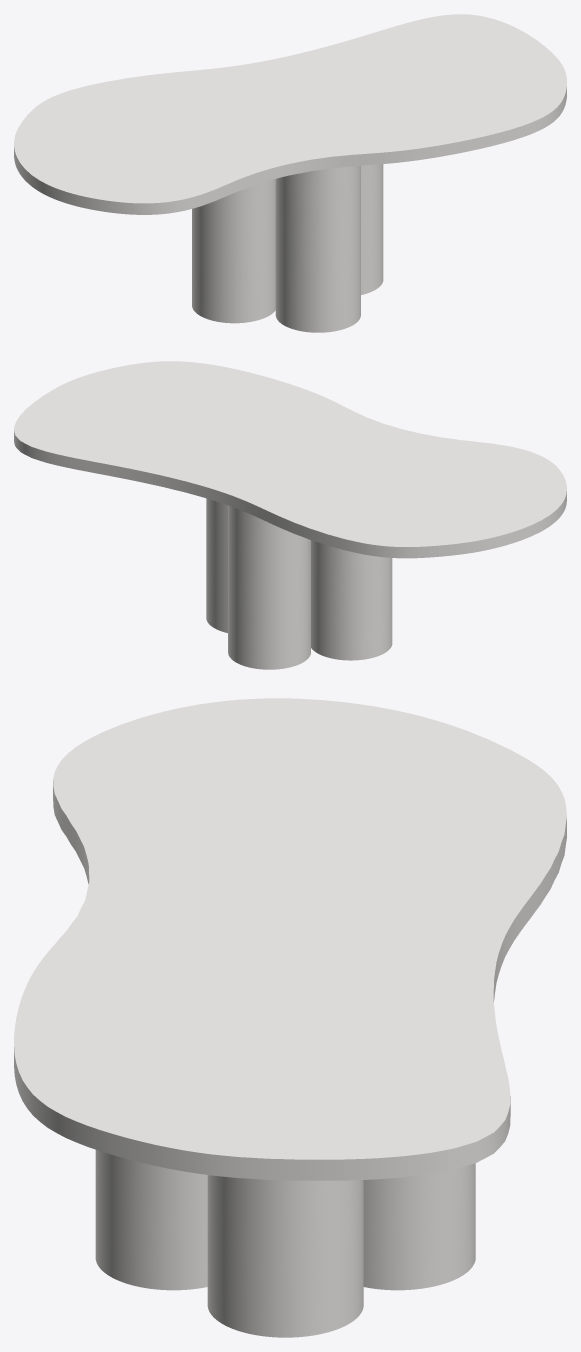
File: purewhite_wave_standard_secondtable.glb
The picture shows the model from 3 angles, top to bottom: view 1: azimuth 30°, elevation 25°; view 2: azimuth 150°, elevation 25°; view 3: azimuth 270°, elevation 25°; orthographic projection. The views are drawn at different scales.
Parts seen in each view (by area): view 1: standard_wave, secondtable; view 2: standard_wave, secondtable; view 3: standard_wave, secondtable.
Part boxes in pixels (<box>): standard_wave: <box>14,14,566,214</box>; secondtable: <box>192,164,383,332</box>; standard_wave: <box>14,361,566,558</box>; secondtable: <box>206,498,392,669</box>; standard_wave: <box>14,698,566,1180</box>; secondtable: <box>95,1150,475,1337</box>.
Size of the model in its own units: 7.5 by 2.5 by 3.8.
Materials: 1 (1 with a texture image).
